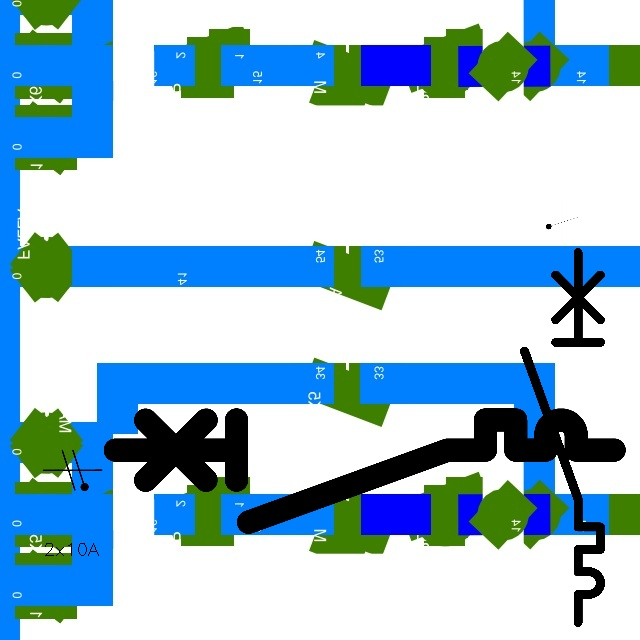interruptor_termomagnetico: (102, 407, 627, 535), (515, 242, 610, 631)
